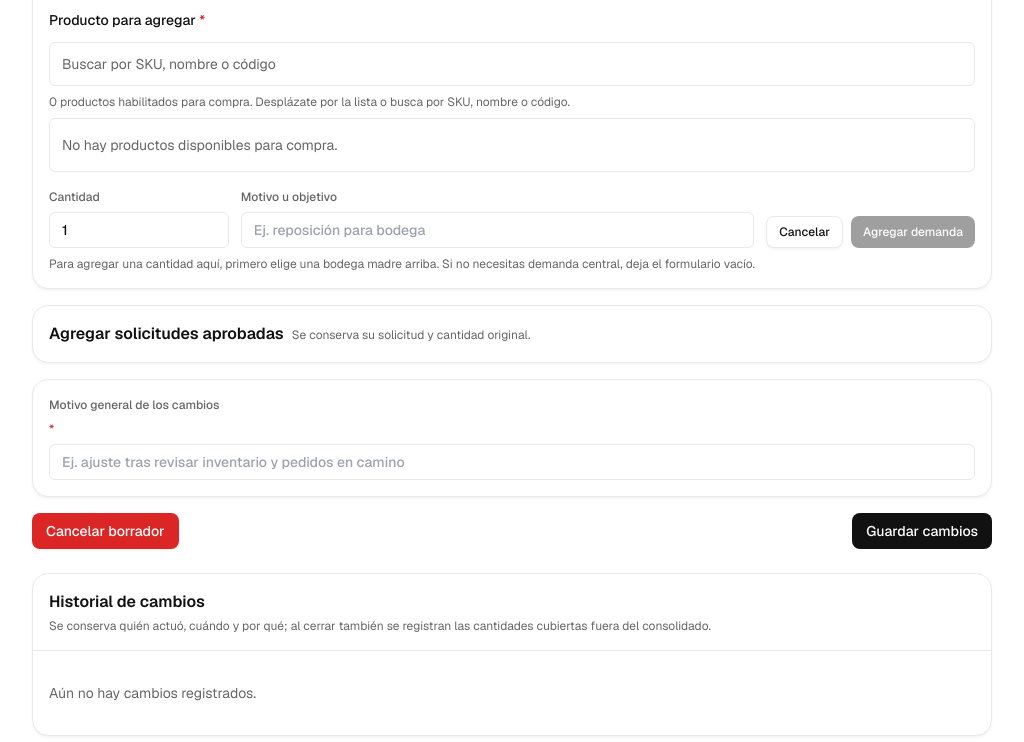
Test: PurchaseConsolidationDetail › does not send only the general change reason as a draft change
(page scrolled)
Type "Cambios 1.2" into the field labelled "Motivo general de los cambios" at (512, 462), box [49,444,975,480]
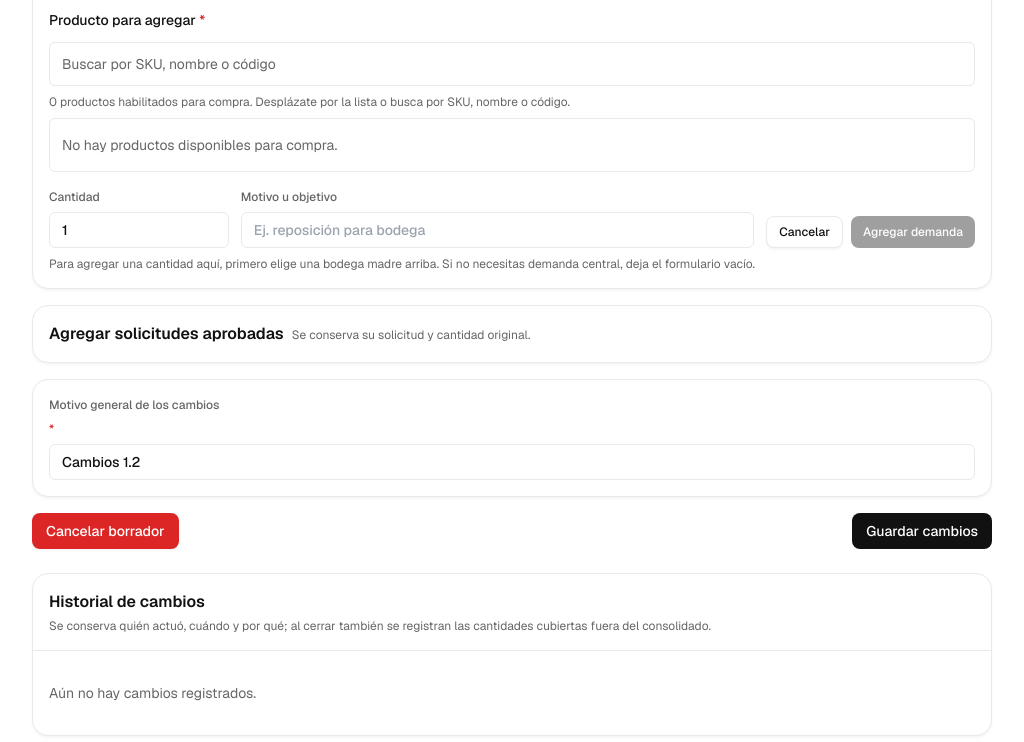
Click the button "Guardar cambios" at (922, 531), box [852,513,992,549]
(page scrolled)
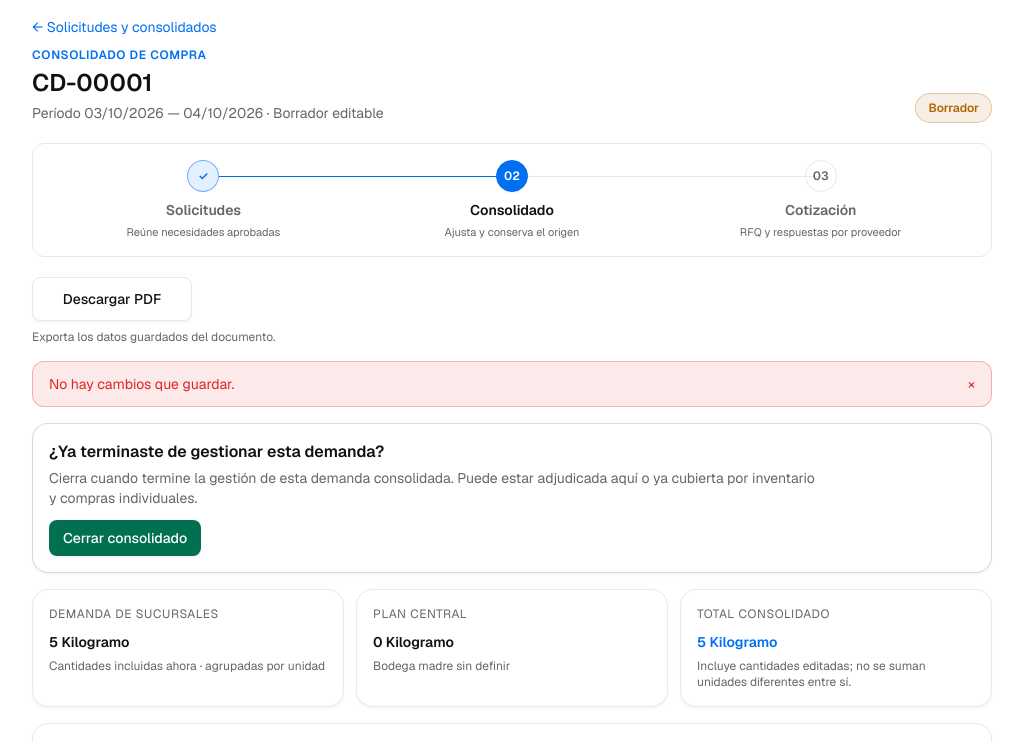
expect the text "No hay cambios que guardar." is shown: met, box [49,374,234,394]
